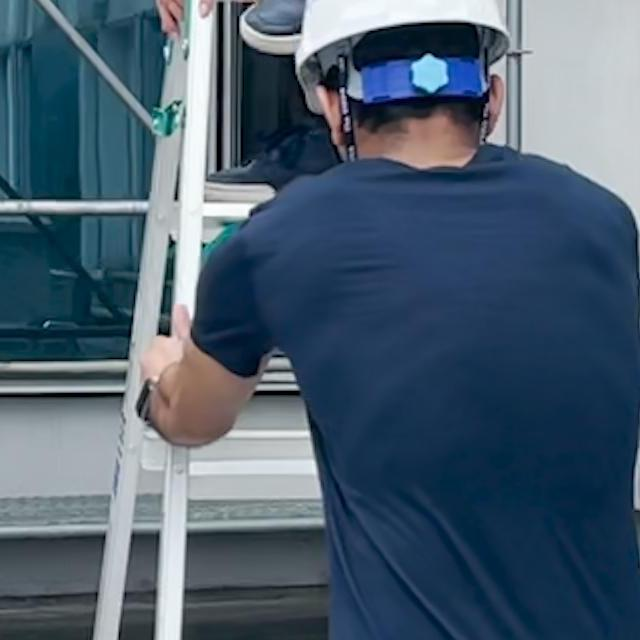Hardhat: (291, 0, 524, 79)
Ladder: (0, 0, 640, 640)
NO-Safety Vest: (251, 135, 640, 640)
Person: (131, 0, 640, 640)
